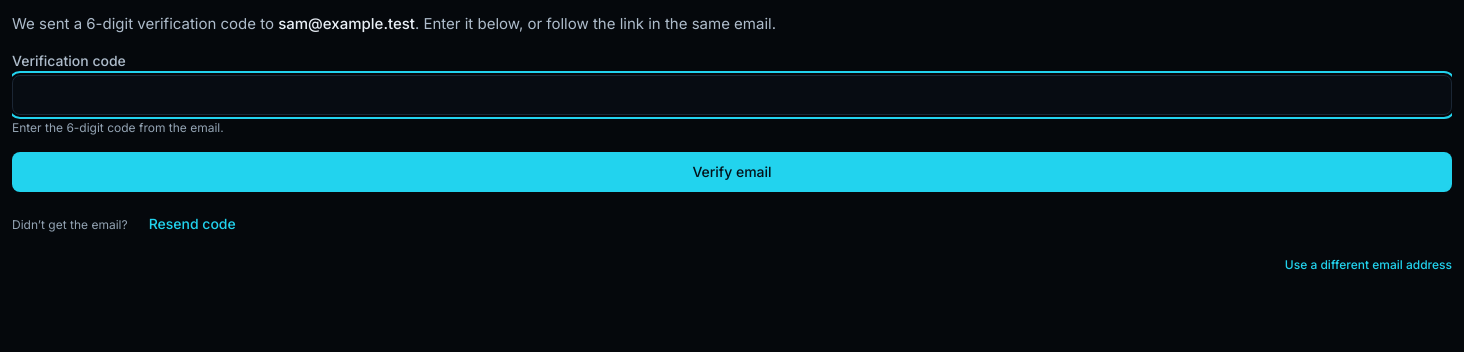
Test case: verification successful › treats an outcome without a session as unverified rather than as success
Type "123456" into the field labelled "Verification code" at [732, 95], box [12,75,1452,115]
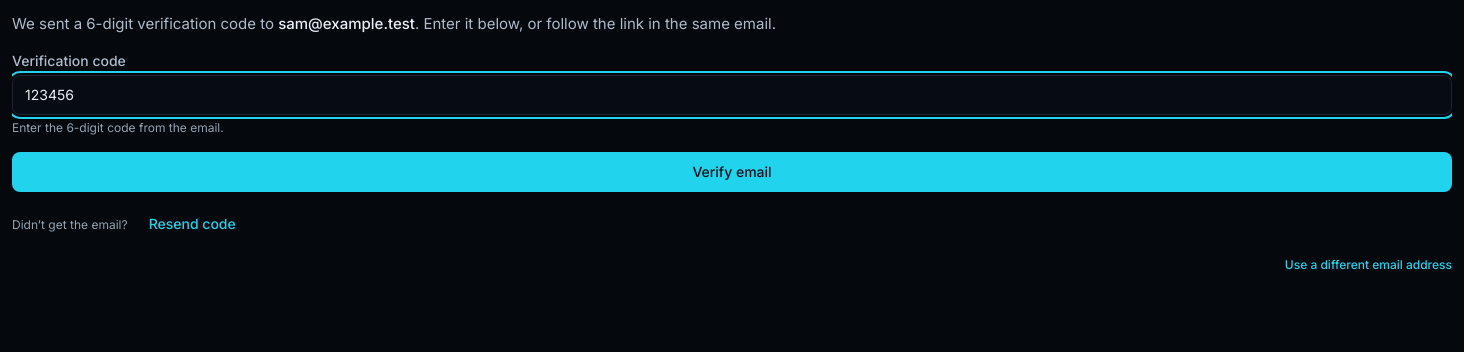
Click the button "Verify email" at [732, 172], box [12,152,1452,192]
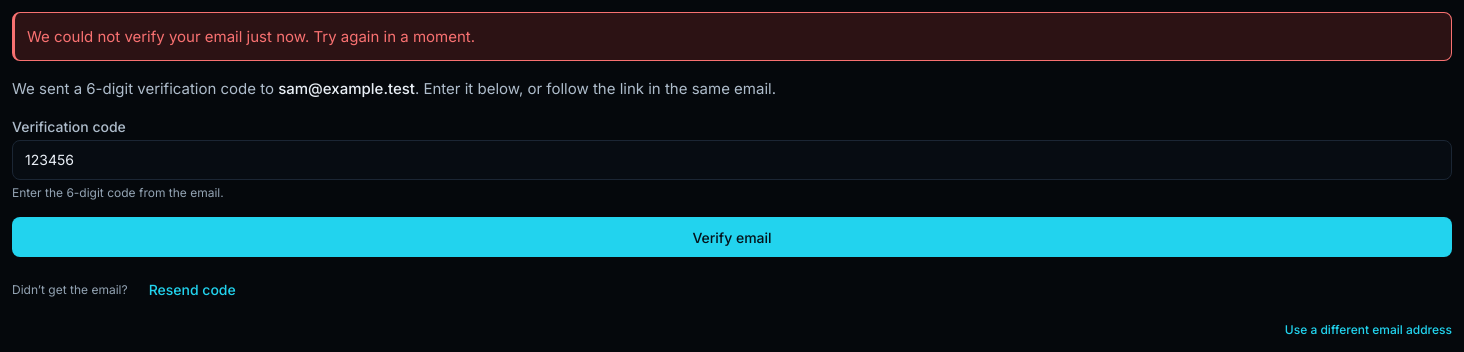
Now the message shows "could not verify your email", box [27,27,475,46]
